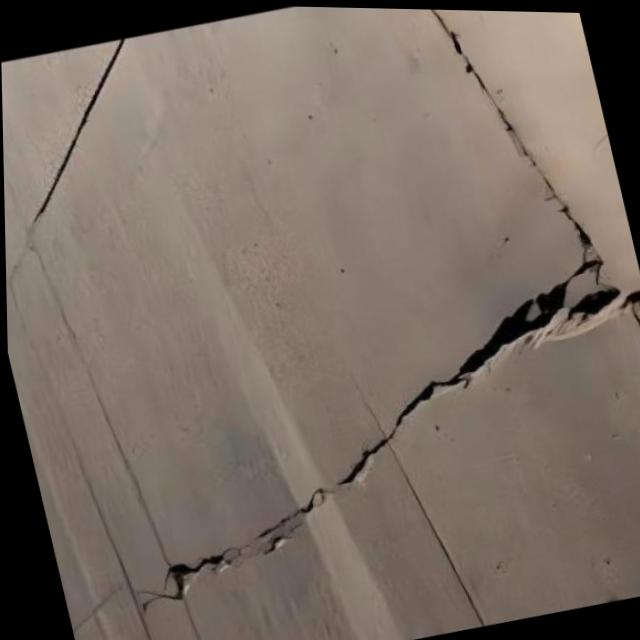Crack: (368, 6, 640, 427), (245, 304, 552, 532), (73, 425, 388, 624)
